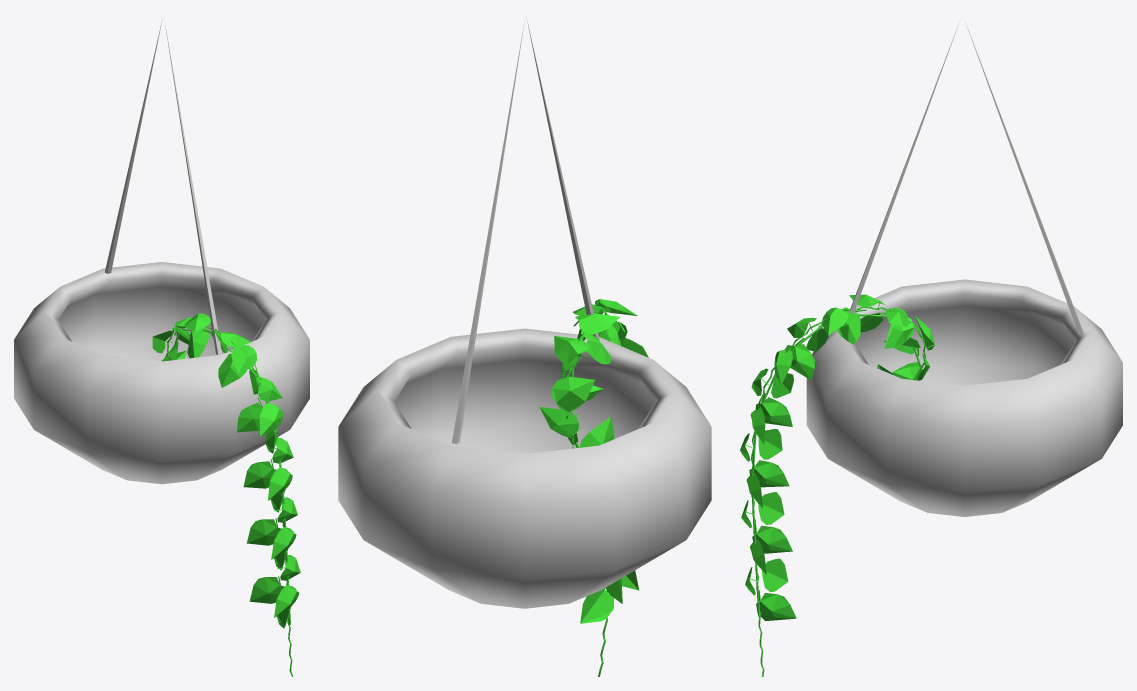
The model's file is HangingPlant.fbx.
The picture shows the model from 3 angles, left to right: view 1: azimuth 30°, elevation 25°; view 2: azimuth 150°, elevation 25°; view 3: azimuth 270°, elevation 25°; orthographic projection. The views are drawn at different scales.
Parts seen in each view (by area): view 1: HangingPot, Leafs, Hanger; view 2: HangingPot, Leafs, Hanger; view 3: HangingPot, Leafs, Hanger, VineSpiral.
Part boxes in pixels (box(x1,y1,x2,y2)): HangingPot: box(14, 262, 309, 484); Leafs: box(152, 313, 300, 628); Hanger: box(105, 19, 222, 354); HangingPot: box(338, 328, 711, 608); Leafs: box(539, 298, 648, 623); Hanger: box(451, 18, 599, 444); HangingPot: box(806, 279, 1122, 516); Leafs: box(740, 294, 934, 620); Hanger: box(849, 22, 1083, 334); VineSpiral: box(751, 307, 925, 676).
Size of the model in its own units: 122 by 273 by 147.
